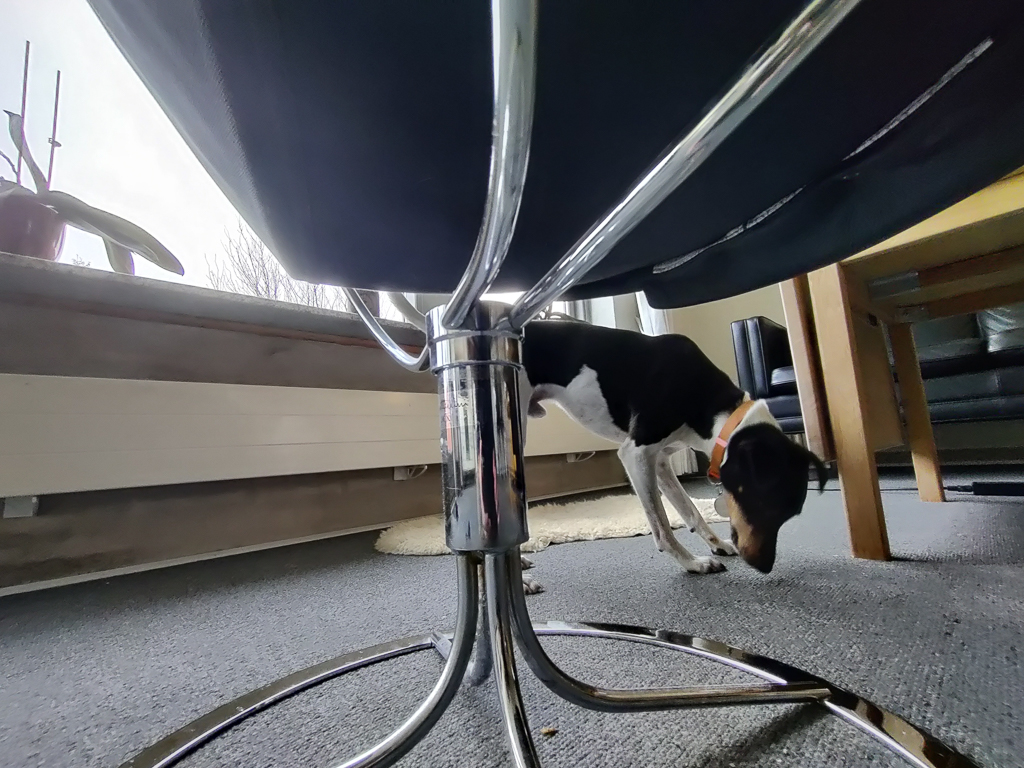Dog: (383, 283, 842, 604)
